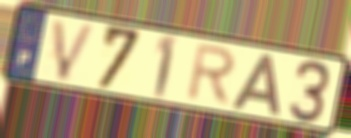1: (153, 34, 180, 101)
3: (286, 57, 333, 125)
7: (96, 22, 144, 92)
A: (229, 52, 282, 118)
R: (182, 43, 239, 108)
V: (51, 17, 99, 84)
